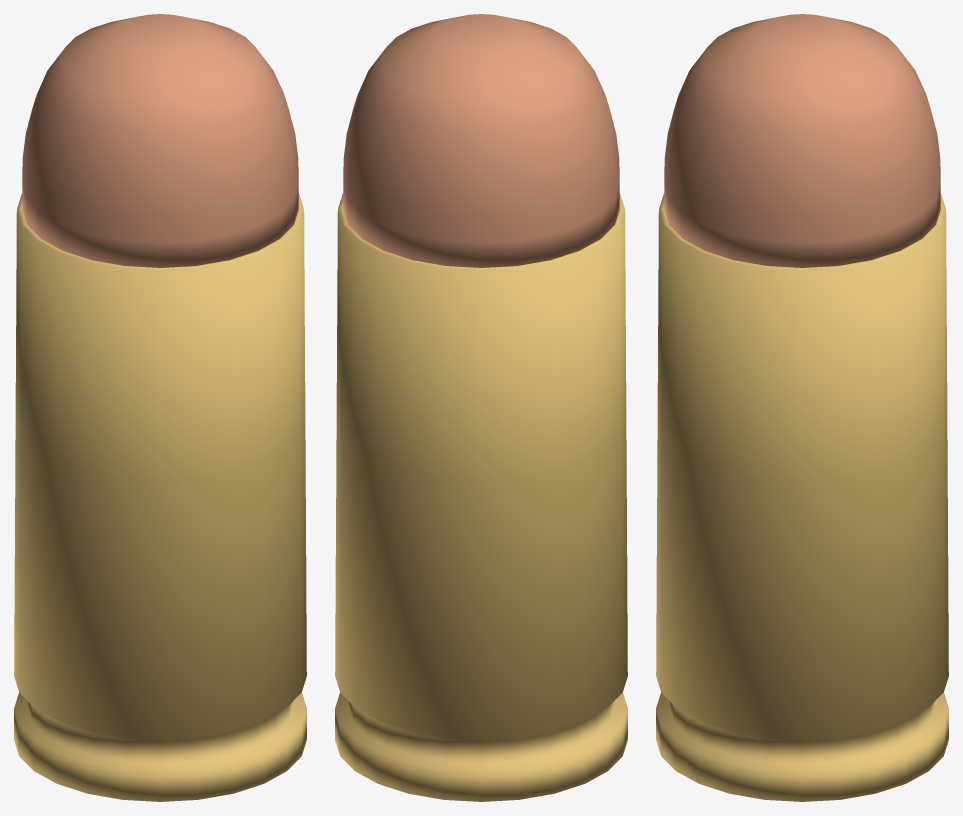
The model's file is 40sw_std.glb.
3 renders of one model, left to right at view 1: azimuth 30°, elevation 25°; view 2: azimuth 150°, elevation 25°; view 3: azimuth 270°, elevation 25°, orthographic.
Visible parts, largest first — view 1: vaina, bala; view 2: vaina, bala; view 3: vaina, bala.
Part boxes in pixels (<box>): vaina: <box>14,193,306,801</box>; bala: <box>22,14,298,267</box>; vaina: <box>335,193,627,801</box>; bala: <box>343,14,619,267</box>; vaina: <box>656,193,948,801</box>; bala: <box>664,14,940,267</box>.
Bounding box in the file's own units: 0.0108 × 0.0288 × 0.0108.
